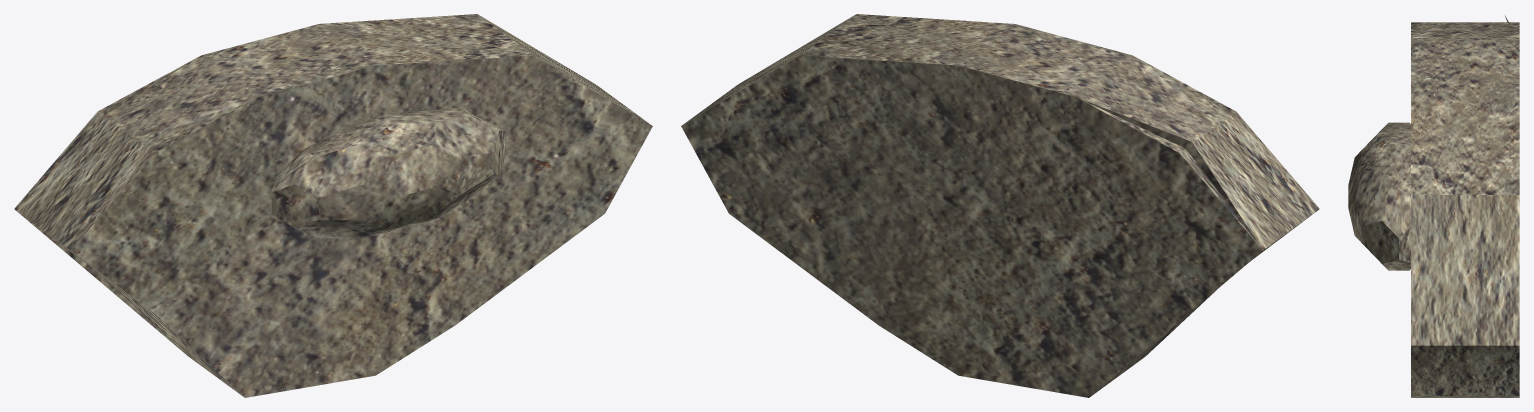
The model's file is EyePiece1.fbx.
The picture shows the model from 3 angles, left to right: view 1: azimuth 30°, elevation 25°; view 2: azimuth 150°, elevation 25°; view 3: azimuth 270°, elevation 25°; orthographic projection. The views are drawn at different scales.
Visible parts, largest first — view 1: Box.split; view 2: Box.split; view 3: Box.split.
Part boxes in pixels (x1,y1,x2,y2): Box.split: [14, 14, 652, 397]; Box.split: [681, 14, 1319, 397]; Box.split: [1348, 16, 1519, 397].
Bounding box in the file's own units: 171 × 87.27 × 45.71.
